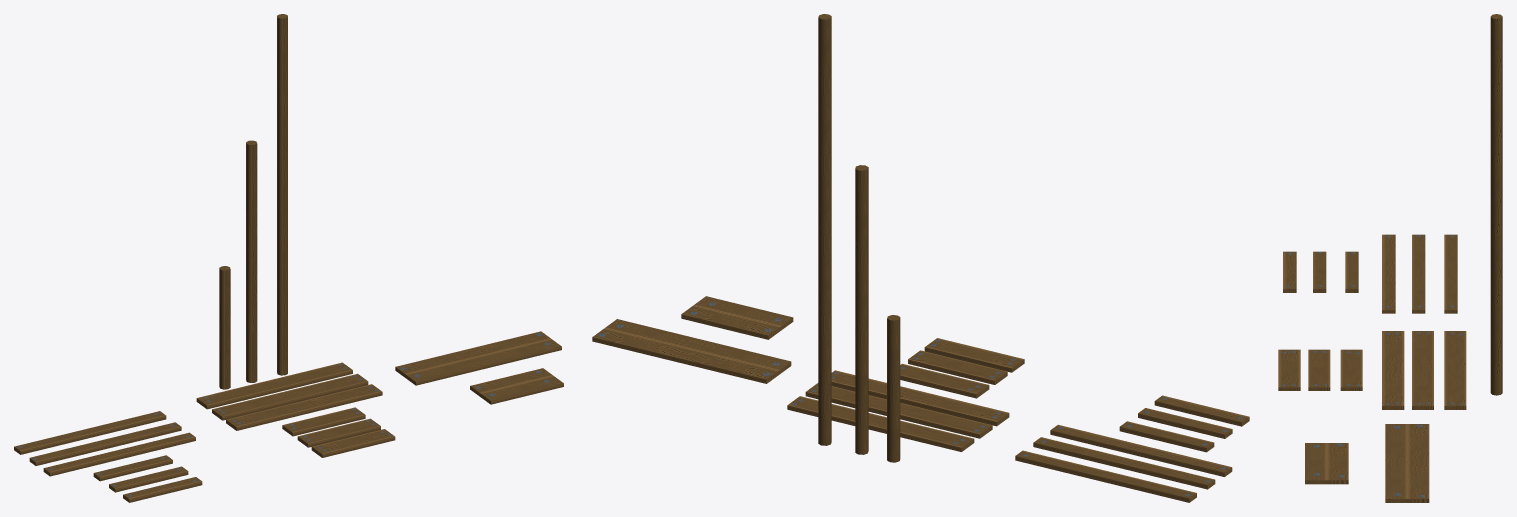
Rendered from AA_DarkWood_CT.fbx.
3 renders of one model, left to right at view 1: azimuth 30°, elevation 25°; view 2: azimuth 150°, elevation 25°; view 3: azimuth 270°, elevation 25°, orthographic. The views are drawn at different scales.
Visible parts, largest first — view 1: LPole_01, LLBoard_01, MPole_01, MLBoard_01, MLBoard_03, MLBoard_02, LSBoard_01, SLBoard_02, SLBoard_03, SLBoard_01, SPole_01, MSBoard_04 (+5 smaller); view 2: LPole_01, LLBoard_01, MPole_01, LSBoard_01, MLBoard_03, MLBoard_01, MLBoard_02, SLBoard_02, SLBoard_01, SLBoard_03, SPole_01, MSBoard_02 (+5 smaller); view 3: LPole_01, LLBoard_01, LSBoard_01, MLBoard_01, MLBoard_03, MLBoard_02, SLBoard_02, SLBoard_03, SLBoard_01, MSBoard_03, MSBoard_04, MSBoard_02 (+3 smaller).
Part boxes in pixels (x1,y1,x2,y2): LPole_01: (277,14,287,375); LLBoard_01: (395,331,561,385); MPole_01: (246,142,257,382); MLBoard_01: (196,362,352,409); MLBoard_03: (226,384,382,430); MLBoard_02: (212,373,368,420); LSBoard_01: (470,368,563,404); SLBoard_02: (43,432,195,476); SLBoard_03: (14,411,166,454); SLBoard_01: (29,422,181,465); SPole_01: (219,266,230,389); MSBoard_04: (282,407,365,436); LPole_01: (818,14,831,445); LLBoard_01: (592,319,791,383); MPole_01: (855,167,868,454); LSBoard_01: (681,296,793,339); MLBoard_03: (831,370,1009,426); MLBoard_01: (787,396,974,451); MLBoard_02: (805,383,992,438); SLBoard_02: (1050,424,1232,476); SLBoard_01: (1033,437,1215,489); SLBoard_03: (1015,450,1196,502); SPole_01: (887,315,900,462); MSBoard_02: (908,350,1007,384); LPole_01: (1490,14,1502,395); LLBoard_01: (1385,424,1429,502); LSBoard_01: (1305,443,1348,484); MLBoard_01: (1444,331,1466,409); MLBoard_03: (1382,331,1404,409); MLBoard_02: (1412,331,1433,409); SLBoard_02: (1382,234,1395,313); SLBoard_03: (1444,234,1457,313); SLBoard_01: (1412,234,1425,313); MSBoard_03: (1278,349,1300,390); MSBoard_04: (1340,349,1362,390); MSBoard_02: (1308,349,1330,390).
Size of the model in its own units: 1552 by 1031 by 557.
